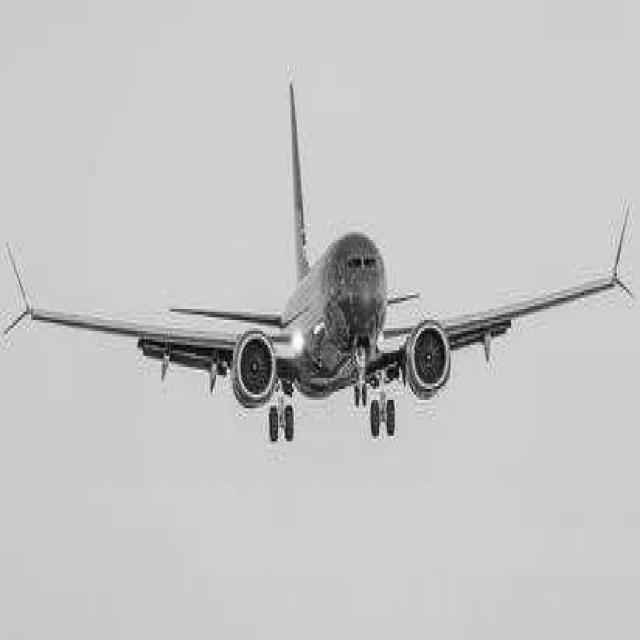Aircraft: (6, 110, 629, 428)
